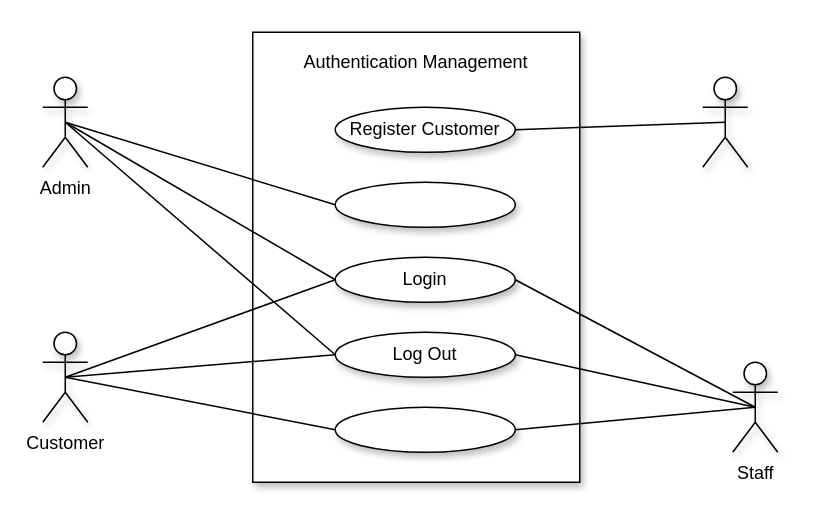
Image size: 813x519. Some labels were removed from this diagram. The centre of each missing label's shape, as x and y in pixels:
"Forget Password" goes at (x=426, y=431).
"Guest" goes at (x=726, y=124).
"Register Staff" goes at (x=426, y=206).
